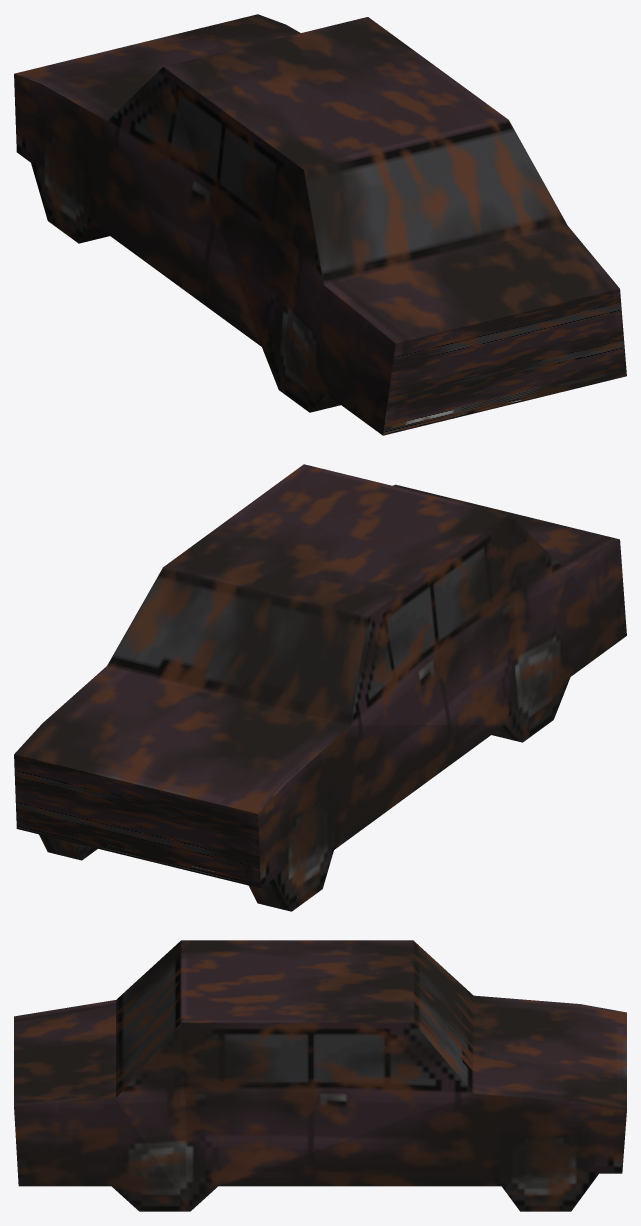
The model's file is prop_car_burnt1.glb.
The picture shows the model from 3 angles, top to bottom: view 1: azimuth 30°, elevation 25°; view 2: azimuth 150°, elevation 25°; view 3: azimuth 270°, elevation 25°; orthographic projection. The views are drawn at different scales.
Visible parts, largest first — view 1: hull; view 2: hull; view 3: hull.
Part boxes in pixels (left/top/right/bottom): hull: left=14, top=14, right=626, bottom=435; hull: left=14, top=464, right=626, bottom=911; hull: left=14, top=940, right=626, bottom=1211.
Size of the model in its own units: 0.8712 by 0.7492 by 2.3.
1 material, 1 textured.
